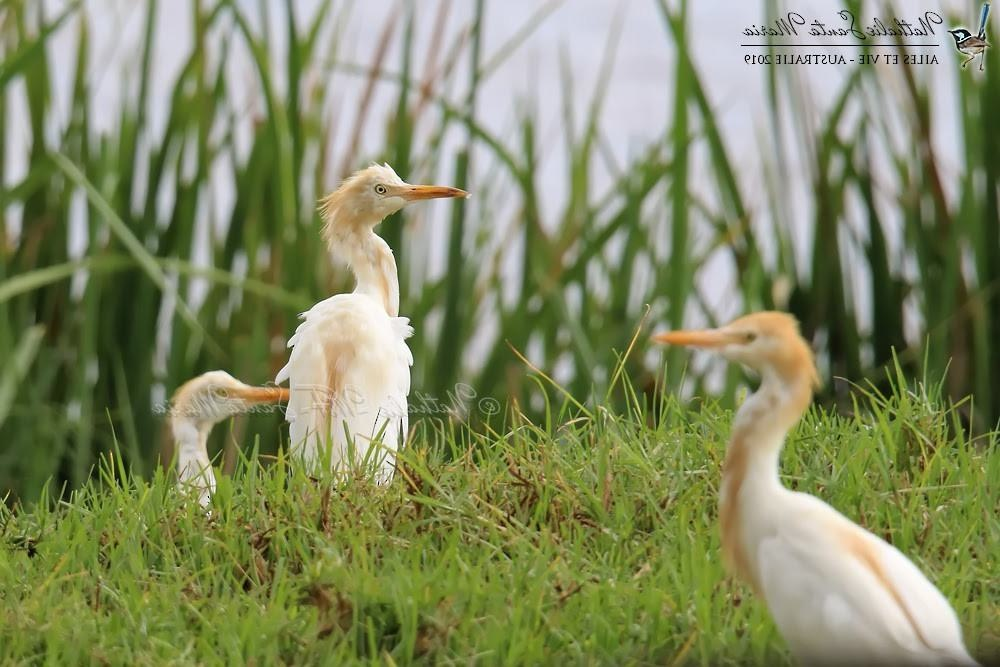egret: (644, 310, 977, 667), (281, 158, 471, 497), (166, 370, 288, 503)
